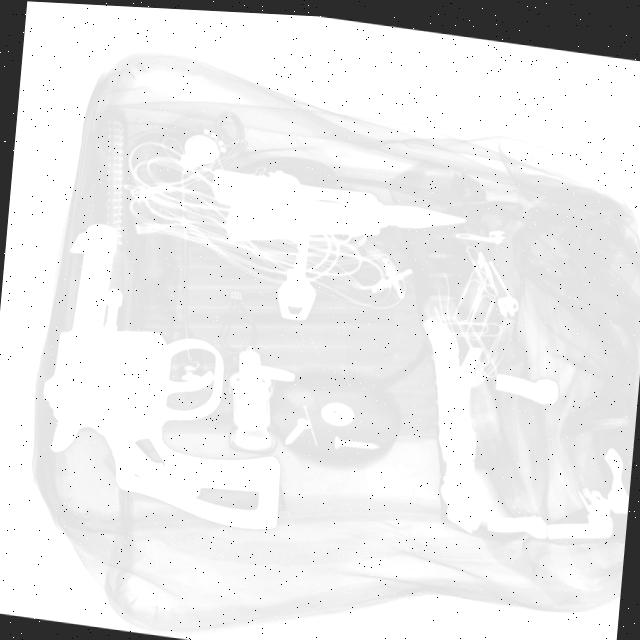pistol: (34, 217, 300, 530)
